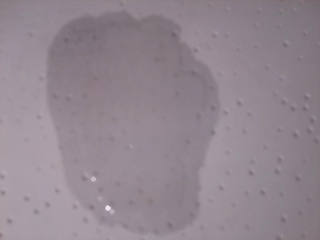Water_detected: (58, 38, 188, 200)
